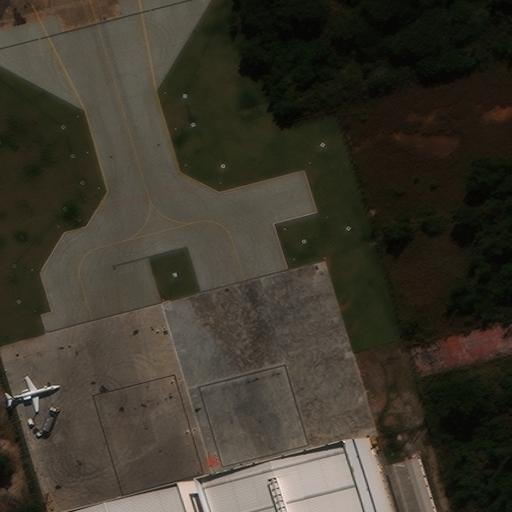Small Civil Transport: (8, 378, 58, 411)
